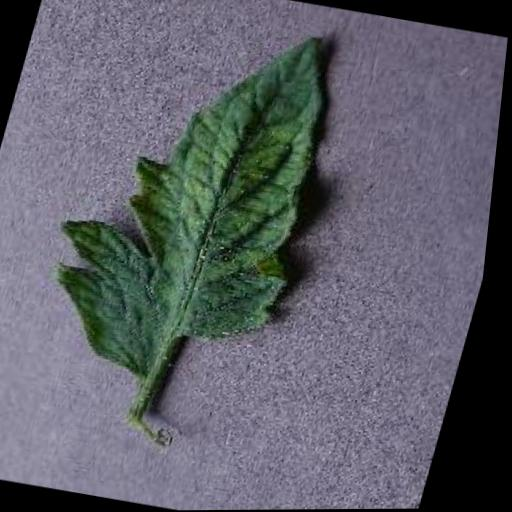Mosaic Virus: (30, 0, 362, 397)
